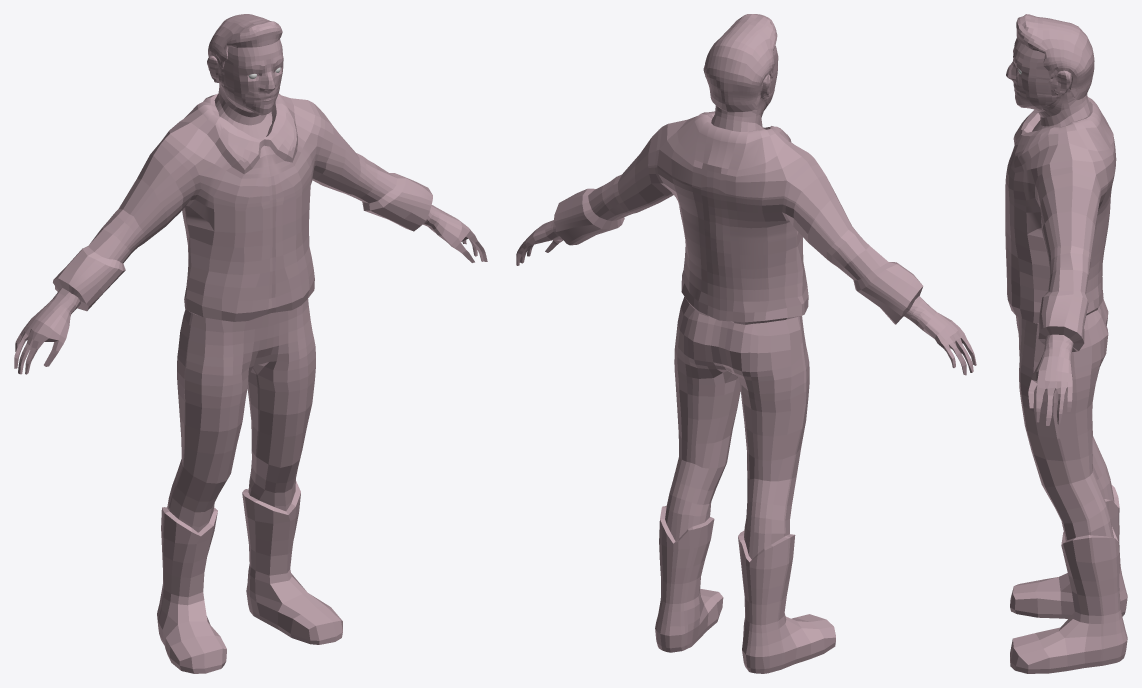
The model's file is Model_Wallace.fbx.
3 renders of one model, left to right at view 1: azimuth 30°, elevation 25°; view 2: azimuth 150°, elevation 25°; view 3: azimuth 270°, elevation 25°, orthographic. The views are drawn at different scales.
Visible parts, largest first — view 1: Main; view 2: Main; view 3: Main.
Boxes of the visible parts, x1=… form: Main: x1=14, y1=14, x2=487, y2=673; Main: x1=516, y1=14, x2=976, y2=673; Main: x1=1005, y1=14, x2=1127, y2=673.
Bounding box in the file's own units: 142 × 184 × 33.05.
